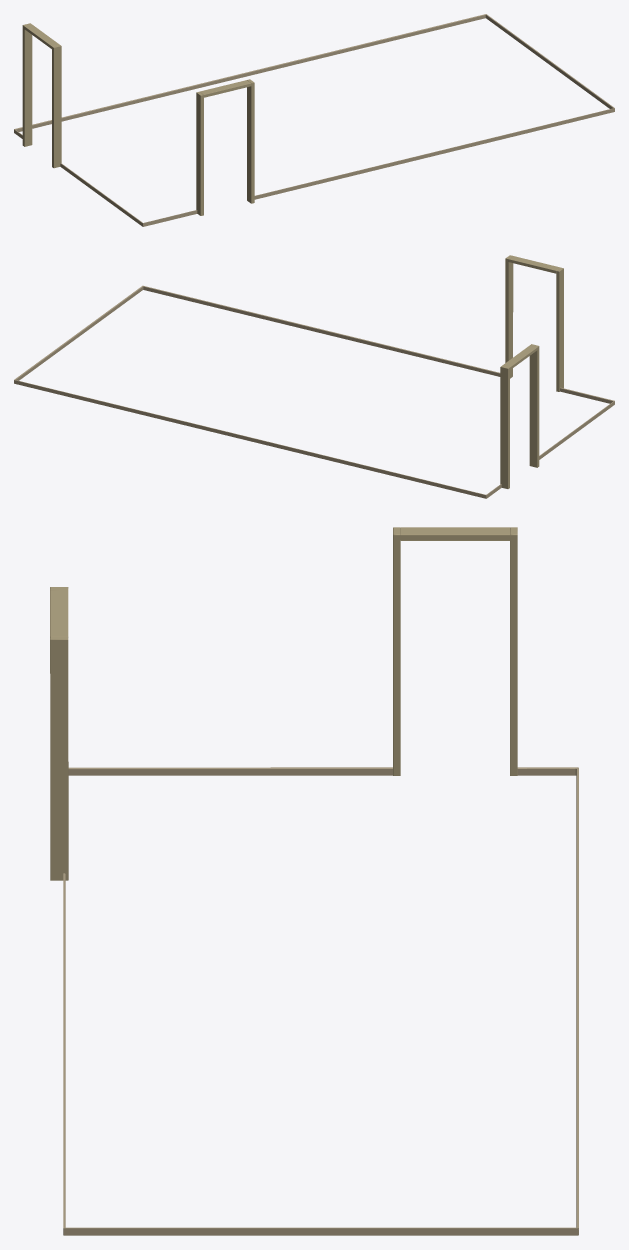
Rendered from S_Border.fbx.
The picture shows the model from 3 angles, top to bottom: view 1: azimuth 30°, elevation 25°; view 2: azimuth 150°, elevation 25°; view 3: azimuth 270°, elevation 25°; orthographic projection. The views are drawn at different scales.
Visible parts, largest first — view 1: Walls.003, WallDoor2mSkirting.005; view 2: Walls.003, WallDoor2mSkirting.005; view 3: WallDoor2mSkirting.005, Walls.003.
Boxes of the visible parts, left/top/right/bottom form: Walls.003: left=14, top=14, right=614, bottom=226; WallDoor2mSkirting.005: left=22, top=23, right=254, bottom=215; Walls.003: left=14, top=285, right=614, bottom=498; WallDoor2mSkirting.005: left=500, top=255, right=563, bottom=488; WallDoor2mSkirting.005: left=50, top=527, right=517, bottom=880; Walls.003: left=63, top=767, right=578, bottom=1235.
Bounding box in the file's own units: 891 × 214 × 426.
